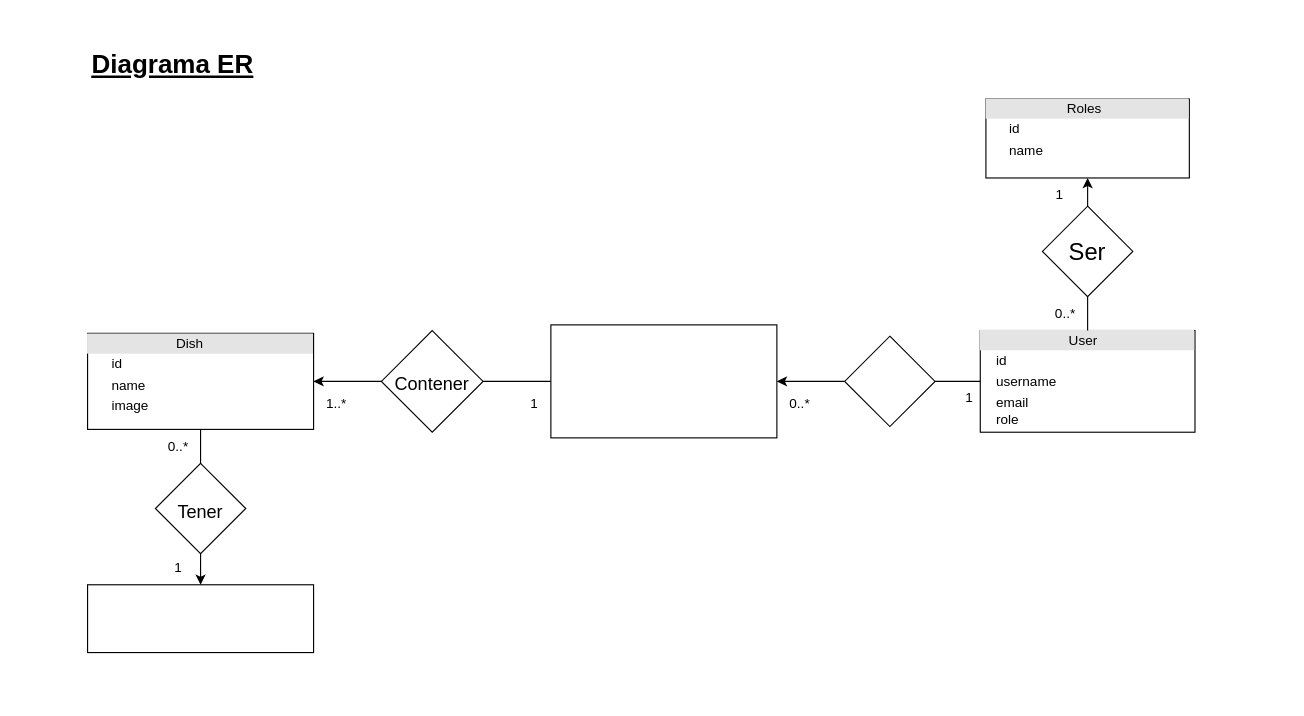
Image size: 1304x716. Some labels were removed from this diagram. The box of each missing label's shape, as (x1, y1, x2, y2) in pixels:
Category id name: (86, 584, 314, 653)
Order id user date dishes: (550, 324, 777, 438)
Pedir: (844, 335, 935, 427)
